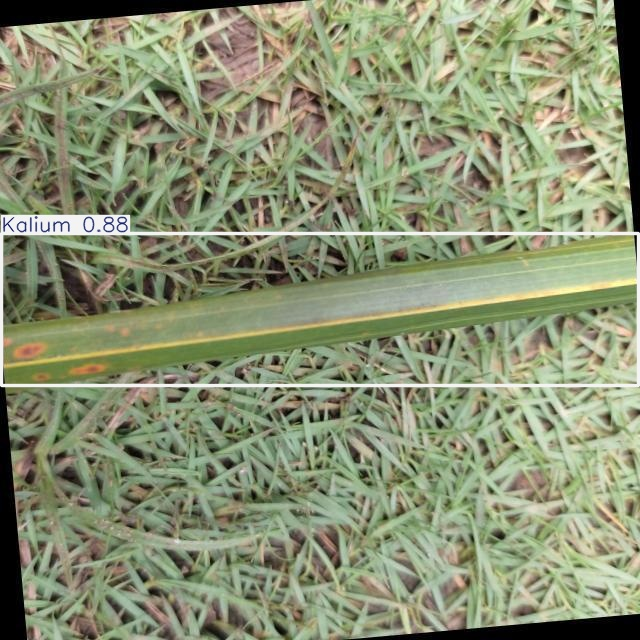Kalium: (1, 233, 638, 385)
